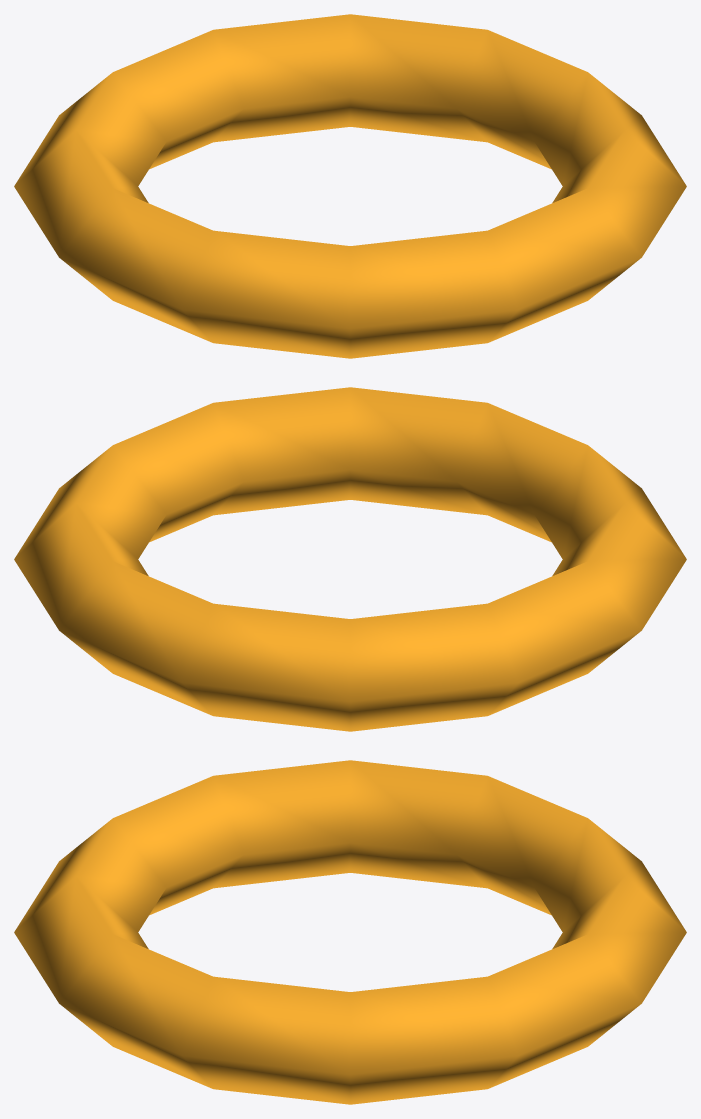
Rendered from AngelHalo_Rebuilt.fbx.
3 views of the same model, one above another, from view 1: azimuth 30°, elevation 25°; view 2: azimuth 150°, elevation 25°; view 3: azimuth 270°, elevation 25° (orthographic).
Parts seen in each view (by area): view 1: AngelHalo; view 2: AngelHalo; view 3: AngelHalo.
Part boxes in pixels (<box>): AngelHalo: <box>14,14,686,358</box>; AngelHalo: <box>14,387,686,731</box>; AngelHalo: <box>14,760,686,1104</box>.
Bounding box in the file's own units: 0.65 × 0.12 × 0.65.
